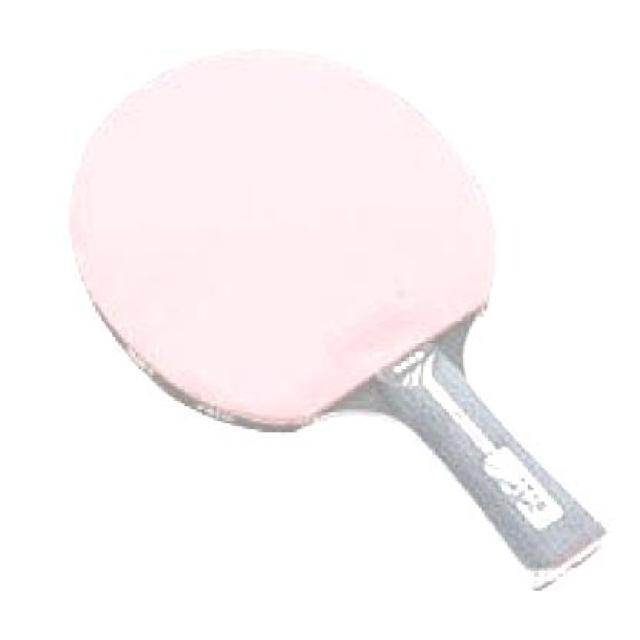table_tennis_racket: (66, 43, 505, 431)
